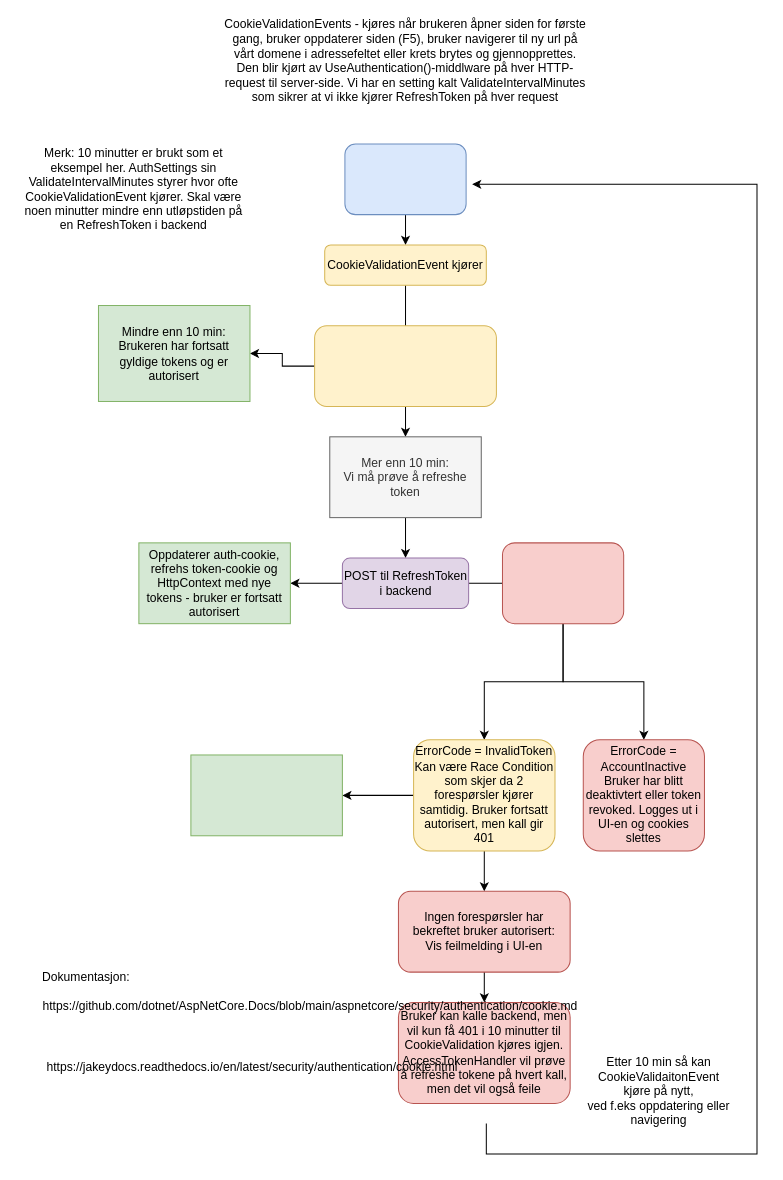
Image size: 783x1180. Some labels were removed from this diagram. The shapes that lost their labels are listed below. From the top down, each one's centre as x and y in pixels, then its label:
the point at 405,179: Bruker åpner en side på vårt domene eller refresher en side
the point at 405,366: Sjekker cookiens egenskapen "LastValidated": har det gått mer enn 10 min?
the point at 562,583: Backend returnerer 401
the point at 266,795: Hvis en av forespørselene refreshet tokens - bruker er fortsatt autorisert
